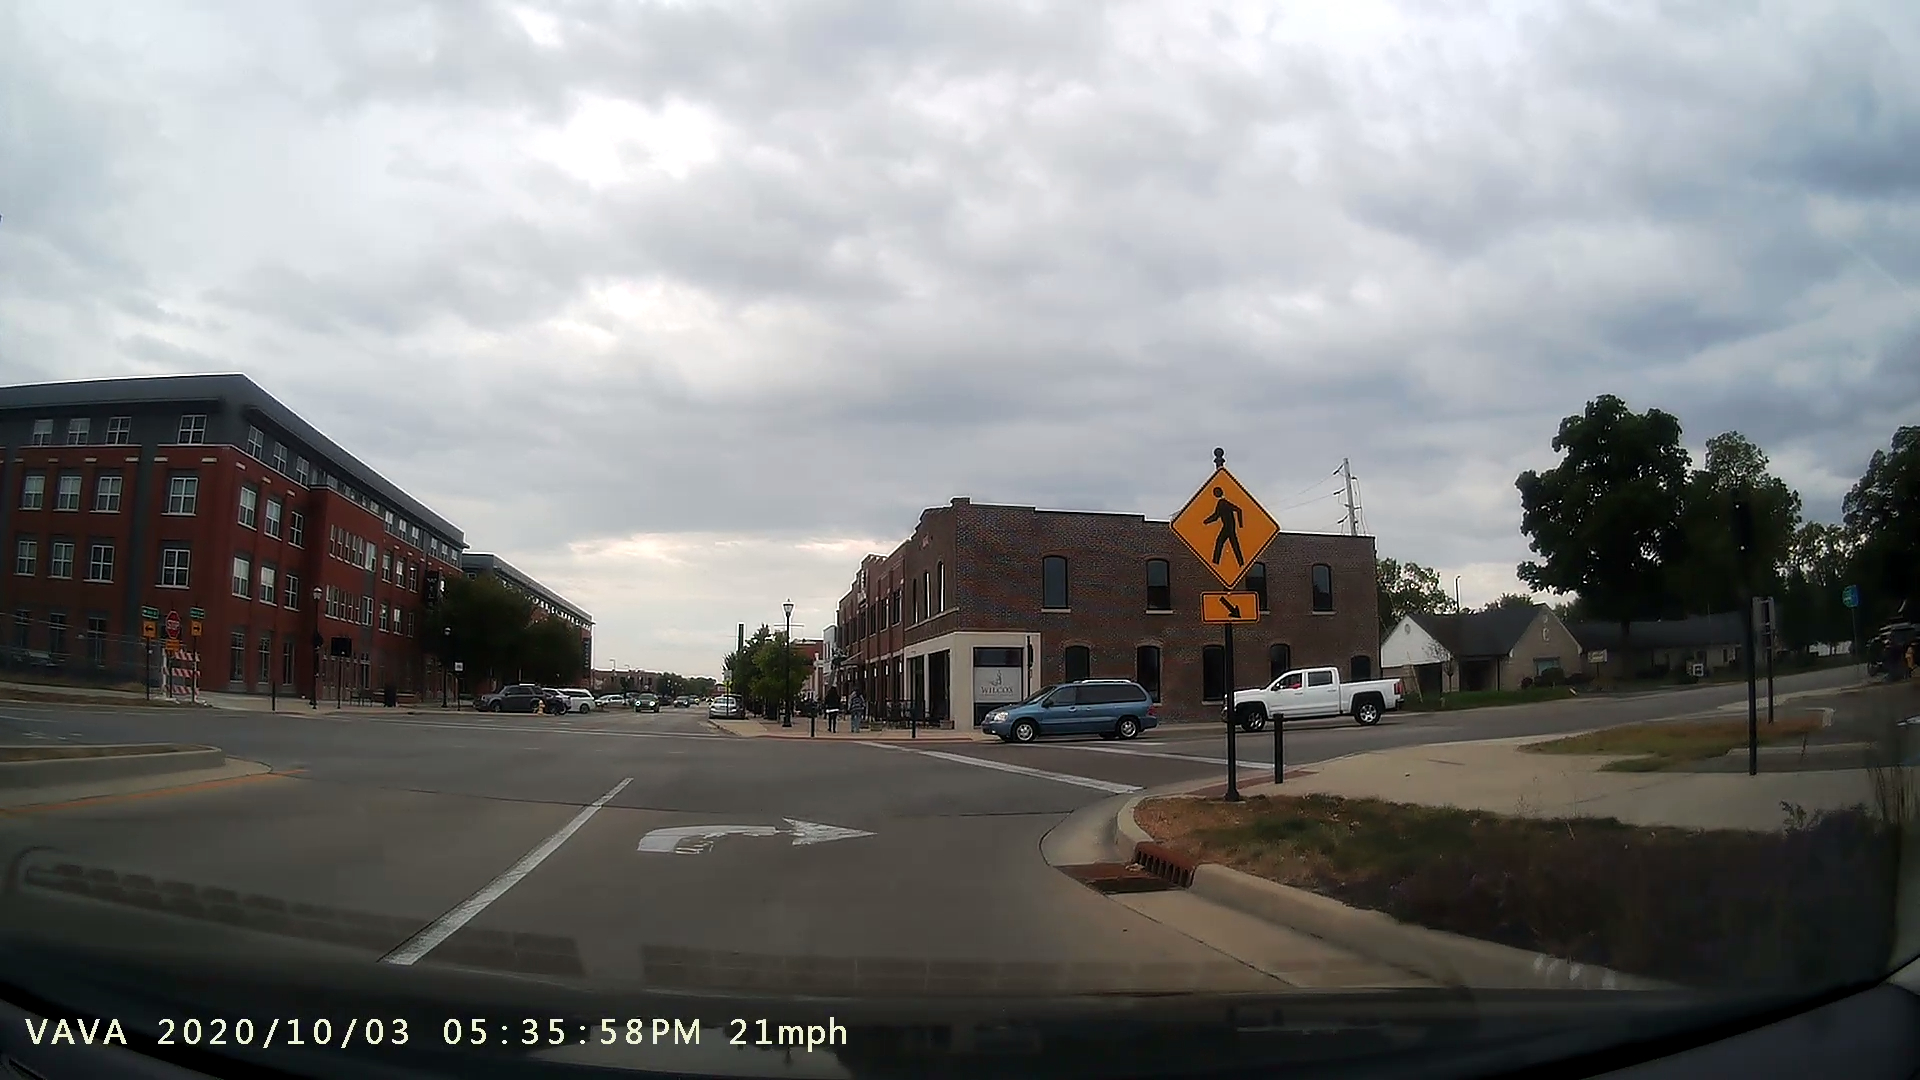right_turn: (630, 794, 899, 915)
